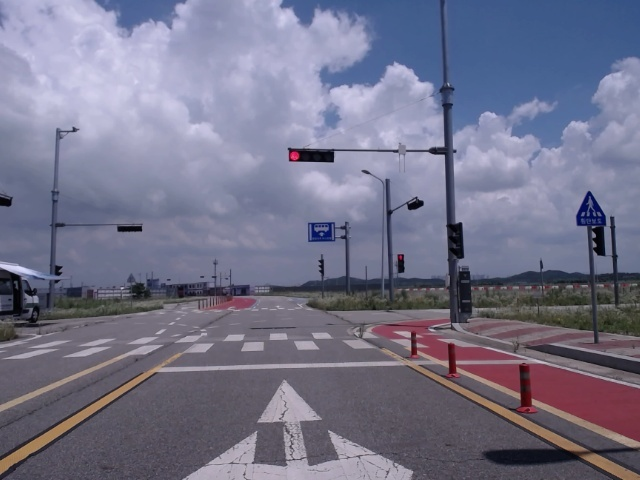red_4: (289, 150, 334, 163)
